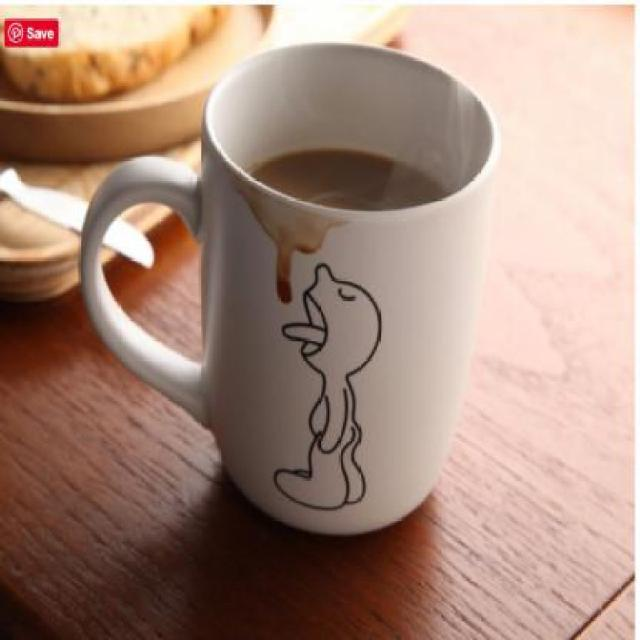cup: (77, 32, 506, 548)
